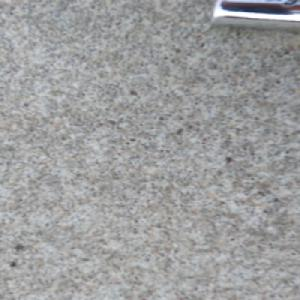Battery: (206, 0, 300, 36)
